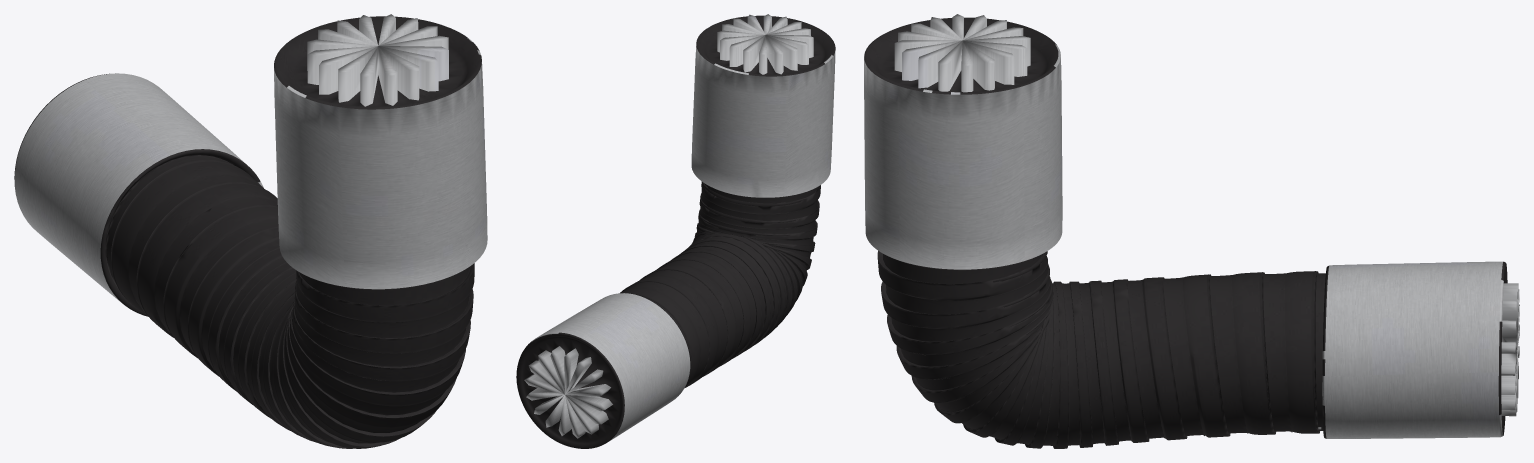
Rendered from cable-left.glb.
The picture shows the model from 3 angles, left to right: view 1: azimuth 30°, elevation 25°; view 2: azimuth 150°, elevation 25°; view 3: azimuth 270°, elevation 25°; orthographic projection. The views are drawn at different scales.
Visible parts, largest first — view 1: CABLE_LEFT; view 2: CABLE_LEFT; view 3: CABLE_LEFT.
Part boxes in pixels (x1,y1,x2,y2): CABLE_LEFT: (14, 14, 487, 448); CABLE_LEFT: (516, 14, 835, 448); CABLE_LEFT: (864, 14, 1519, 448).
Bounding box in the file's own units: 1.29 × 2.81 × 4.16.
2 materials, 2 textured.
